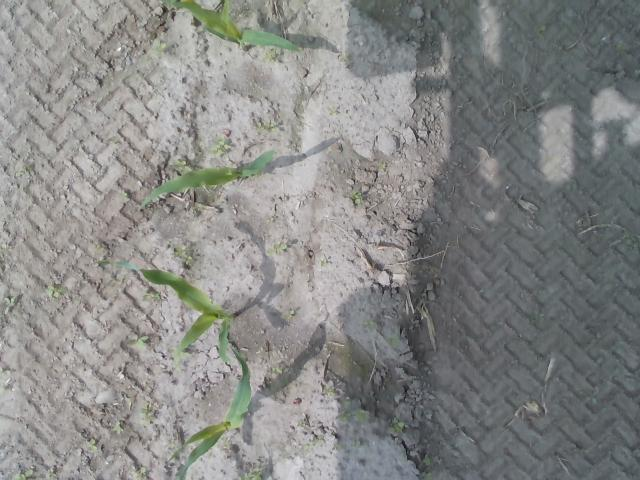Maize: (102, 260, 235, 366), (167, 342, 252, 480), (138, 148, 275, 212), (170, 0, 298, 54)
Weeds: (338, 409, 370, 424), (210, 138, 231, 158), (266, 239, 287, 257), (254, 119, 280, 133), (174, 246, 193, 264), (388, 416, 405, 434), (172, 158, 192, 172), (532, 23, 546, 42), (12, 468, 34, 480), (144, 403, 156, 425), (2, 297, 15, 317), (240, 469, 262, 480), (142, 290, 162, 302), (47, 286, 66, 298), (152, 38, 166, 54), (132, 336, 149, 349), (132, 465, 146, 480), (260, 49, 276, 62), (282, 310, 296, 322), (85, 438, 98, 450), (270, 366, 282, 378), (352, 192, 362, 206), (114, 422, 125, 434), (118, 190, 128, 202), (319, 258, 330, 268), (424, 454, 433, 466)
